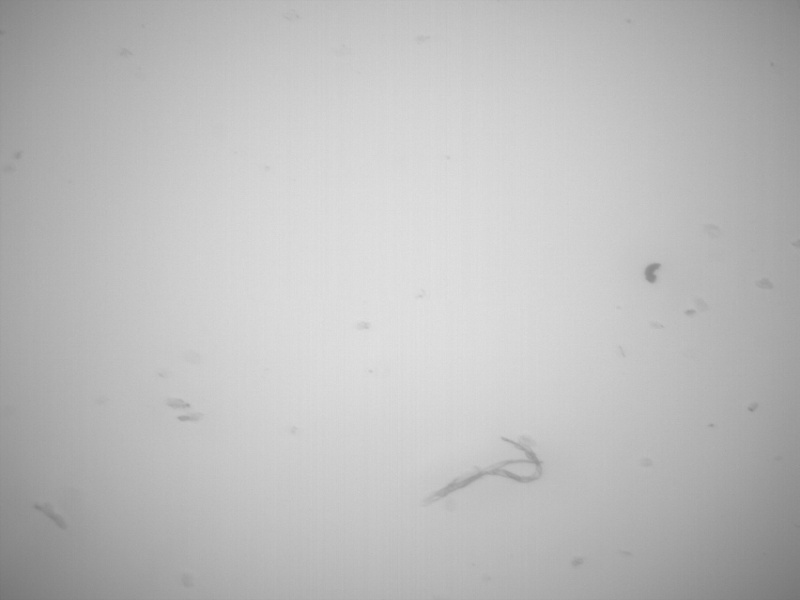fiber: (422, 433, 545, 502)
